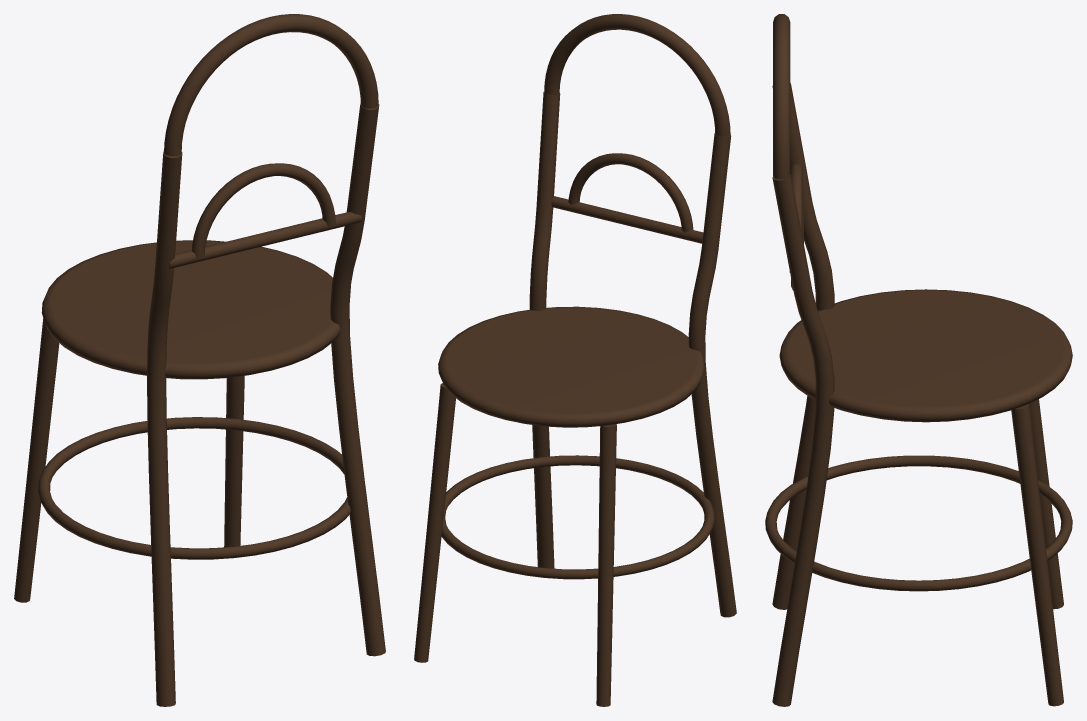
File: chair.glb
3 renders of one model, left to right at view 1: azimuth 30°, elevation 25°; view 2: azimuth 150°, elevation 25°; view 3: azimuth 270°, elevation 25°, orthographic. The views are drawn at different scales.
Visible parts, largest first — view 1: chair; view 2: chair; view 3: chair.
Part boxes in pixels (x1,y1,x2,y2): chair: (14,14,385,706); chair: (414,14,736,706); chair: (765,14,1072,706).
Bounding box in the file's own units: 0.4255 × 0.9633 × 0.4259.
